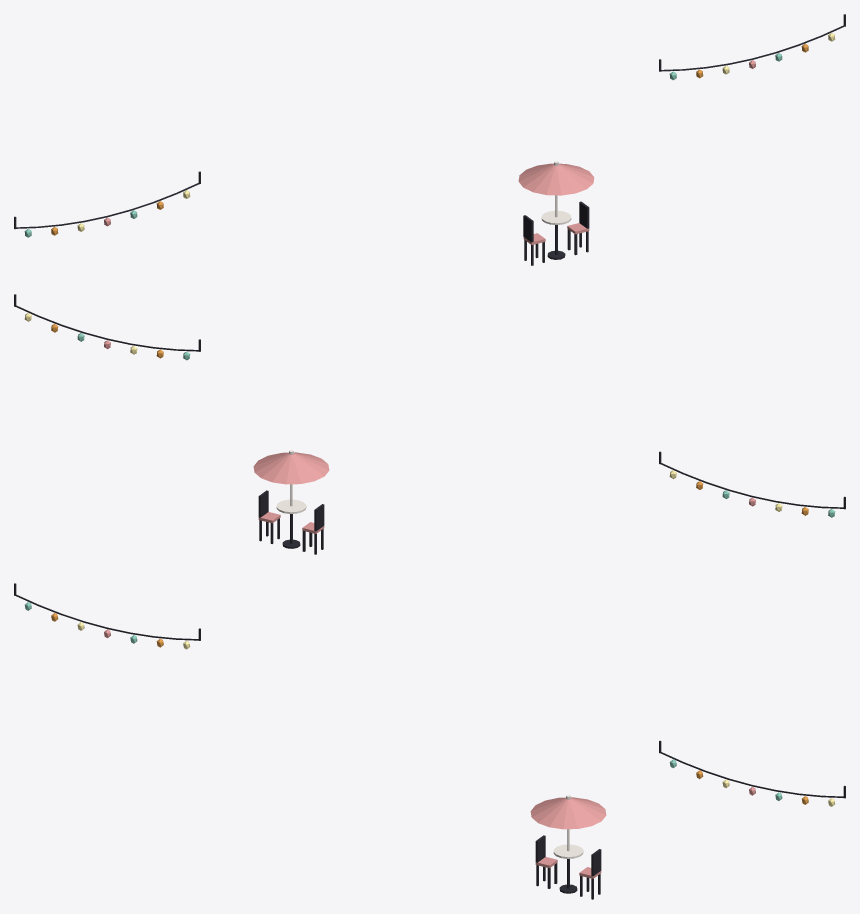
Rendered from CatCafe_Plot_Tier3_52x40.glb.
The picture shows the model from 3 angles, top to bottom: view 1: azimuth 30°, elevation 25°; view 2: azimuth 150°, elevation 25°; view 3: azimuth 330°, elevation 25°; orthographic projection.
Parts seen in each view (by area): view 1: CatCafe_Plot_Tier3_52x40_Bistro, CatCafe_Plot_Tier3_52x40, CatCafe_Plot_Tier3_52x40_StringLights_Bulbs; view 2: CatCafe_Plot_Tier3_52x40_Bistro, CatCafe_Plot_Tier3_52x40, CatCafe_Plot_Tier3_52x40_StringLights_Bulbs; view 3: CatCafe_Plot_Tier3_52x40_Bistro, CatCafe_Plot_Tier3_52x40, CatCafe_Plot_Tier3_52x40_StringLights_Bulbs.
Part boxes in pixels (bbox=[...]): CatCafe_Plot_Tier3_52x40_Bistro: bbox=[518, 161, 594, 265]; CatCafe_Plot_Tier3_52x40: bbox=[14, 14, 845, 229]; CatCafe_Plot_Tier3_52x40_StringLights_Bulbs: bbox=[24, 33, 835, 237]; CatCafe_Plot_Tier3_52x40_Bistro: bbox=[253, 450, 329, 554]; CatCafe_Plot_Tier3_52x40: bbox=[14, 294, 845, 509]; CatCafe_Plot_Tier3_52x40_StringLights_Bulbs: bbox=[24, 313, 835, 517]; CatCafe_Plot_Tier3_52x40_Bistro: bbox=[530, 795, 606, 899]; CatCafe_Plot_Tier3_52x40: bbox=[14, 583, 845, 798]; CatCafe_Plot_Tier3_52x40_StringLights_Bulbs: bbox=[24, 602, 834, 806].
Size of the model in its own units: 47.68 by 9.71 by 3.8.
1 material, 1 textured.
